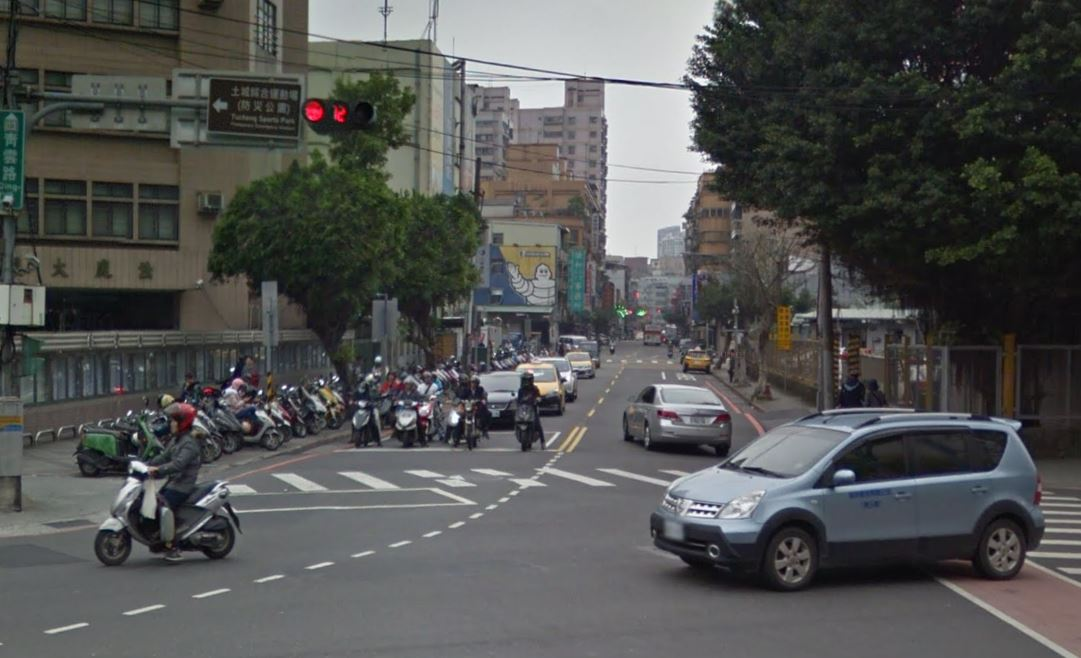Traffic_light_red: (301, 96, 379, 129)
car: (645, 400, 1048, 589)
motorcycle: (90, 446, 244, 565)
